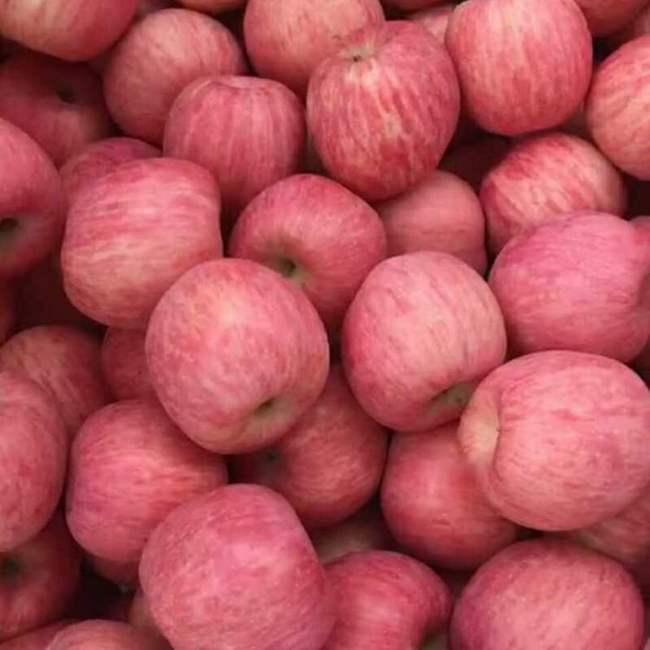apple: (142, 252, 333, 453), (455, 350, 647, 529), (137, 481, 332, 647), (339, 250, 509, 433), (55, 154, 226, 319), (64, 396, 235, 561), (306, 19, 458, 198), (226, 168, 386, 335), (486, 208, 646, 360), (232, 375, 384, 523), (376, 418, 528, 566), (450, 534, 639, 647), (476, 131, 630, 255), (99, 5, 242, 137), (164, 71, 302, 197), (584, 34, 650, 180)
